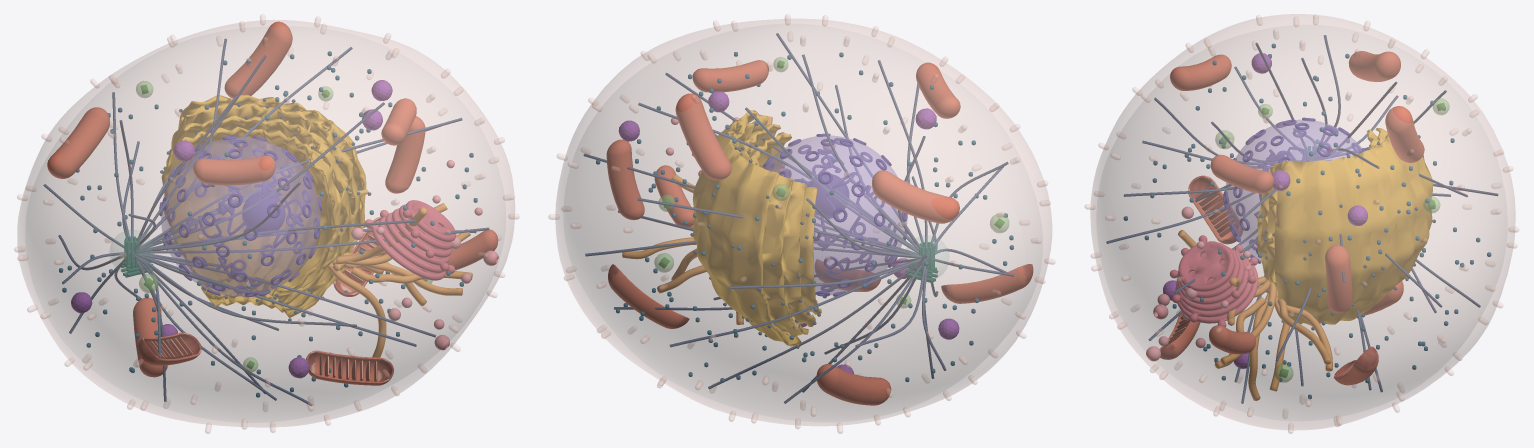
Rendered from medicine_cell.glb.
3 renders of one model, left to right at view 1: azimuth 30°, elevation 25°; view 2: azimuth 150°, elevation 25°; view 3: azimuth 270°, elevation 25°, orthographic. The views are drawn at different scales.
Parts seen in each view (by area): view 1: membrane_geo, rer_sheets, mito_geo, nuc_envelope, cytoskeleton_geo, golgi_stack, nuc_pores, ser_geo, ribosome_geo, lysosome_geo, vesicles_geo, nuc_chromatin (+3 smaller); view 2: membrane_geo, rer_sheets, mito_geo, cytoskeleton_geo, nuc_envelope, nuc_pores, ribosome_geo, lysosome_geo, ser_geo, perox_shell, nuc_chromatin, nucleolus_geo (+1 smaller); view 3: membrane_geo, rer_sheets, mito_geo, cytoskeleton_geo, golgi_stack, nuc_envelope, ser_geo, ribosome_geo, nuc_pores, lysosome_geo, perox_shell, vesicles_geo.
Boxes of the visible parts, bbox=[...] form: membrane_geo: bbox=[14, 14, 519, 433]; rer_sheets: bbox=[161, 94, 368, 317]; mito_geo: bbox=[47, 21, 498, 385]; nuc_envelope: bbox=[161, 137, 320, 296]; cytoskeleton_geo: bbox=[43, 38, 489, 405]; golgi_stack: bbox=[365, 200, 456, 280]; nuc_pores: bbox=[159, 135, 322, 296]; ser_geo: bbox=[327, 203, 472, 357]; ribosome_geo: bbox=[59, 51, 477, 397]; lysosome_geo: bbox=[71, 80, 392, 378]; vesicles_geo: bbox=[351, 160, 498, 350]; nuc_chromatin: bbox=[198, 174, 303, 278]; membrane_geo: bbox=[548, 14, 1055, 433]; rer_sheets: bbox=[693, 110, 821, 345]; mito_geo: bbox=[606, 60, 1033, 405]; cytoskeleton_geo: bbox=[583, 33, 1013, 403]; nuc_envelope: bbox=[764, 136, 906, 294]; nuc_pores: bbox=[763, 133, 907, 296]; ribosome_geo: bbox=[596, 52, 1013, 382]; lysosome_geo: bbox=[618, 91, 959, 373]; ser_geo: bbox=[622, 116, 772, 324]; perox_shell: bbox=[654, 57, 1008, 308]; nuc_chromatin: bbox=[794, 149, 877, 280]; nucleolus_geo: bbox=[808, 174, 848, 216]; membrane_geo: bbox=[1084, 14, 1519, 433]; rer_sheets: bbox=[1257, 128, 1433, 325]; mito_geo: bbox=[1160, 51, 1424, 385]; cytoskeleton_geo: bbox=[1106, 35, 1498, 403]; golgi_stack: bbox=[1170, 235, 1258, 326]; nuc_envelope: bbox=[1225, 120, 1361, 262]; ser_geo: bbox=[1178, 230, 1332, 400]; ribosome_geo: bbox=[1123, 43, 1491, 398]; nuc_pores: bbox=[1223, 117, 1366, 263]; lysosome_geo: bbox=[1163, 53, 1367, 368]; perox_shell: bbox=[1215, 98, 1449, 382]; vesicles_geo: bbox=[1146, 206, 1250, 361].
Size of what is drawn, in the model's own units: 2.74 by 2.17 by 2.35.
